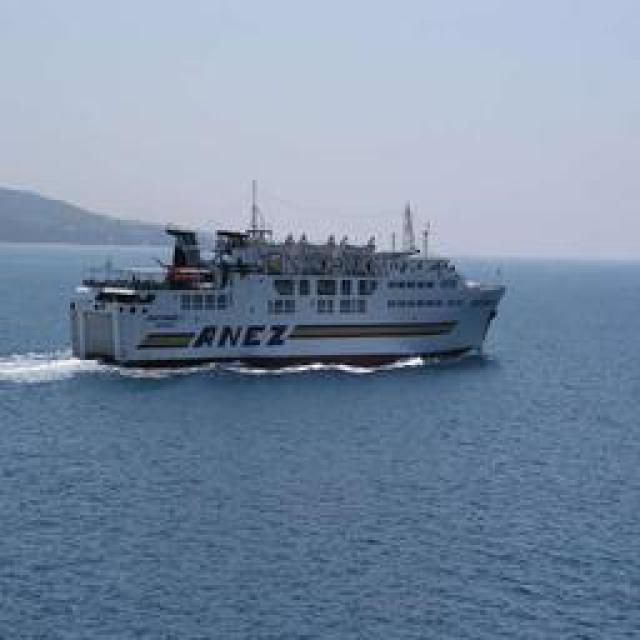Ship: (71, 192, 499, 375)
